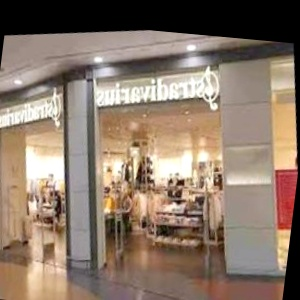stradivarius: (184, 44, 278, 74), (63, 55, 74, 117)
